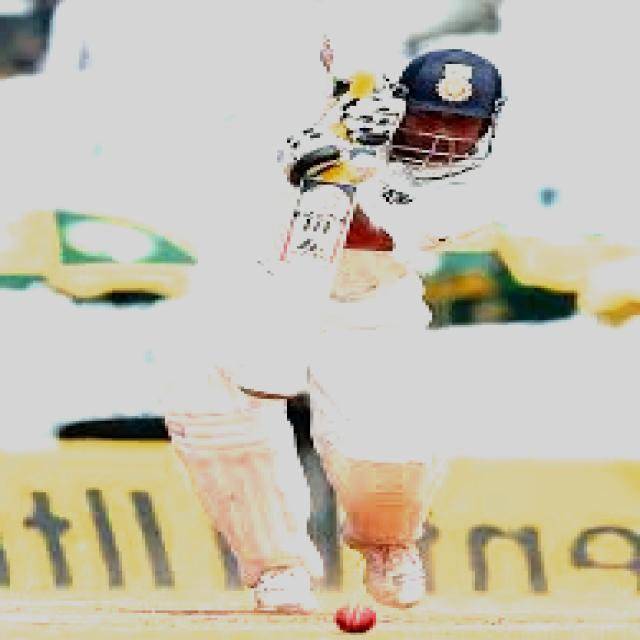toe: (237, 342, 310, 402)
